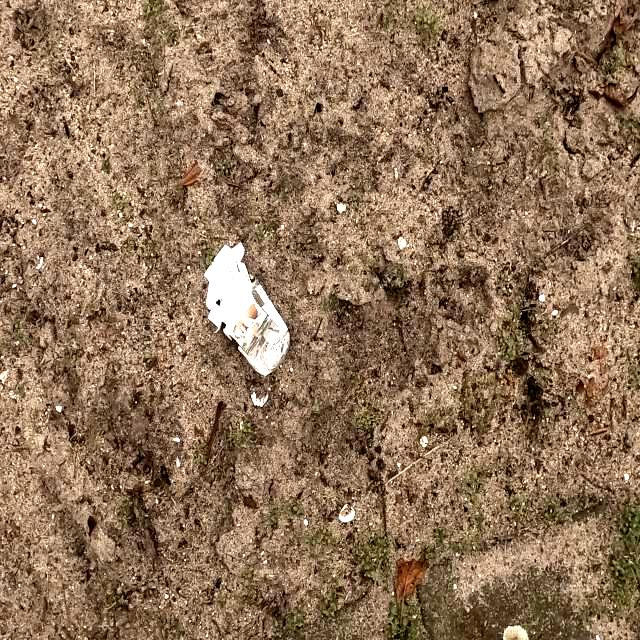Paper: (204, 244, 290, 378)
